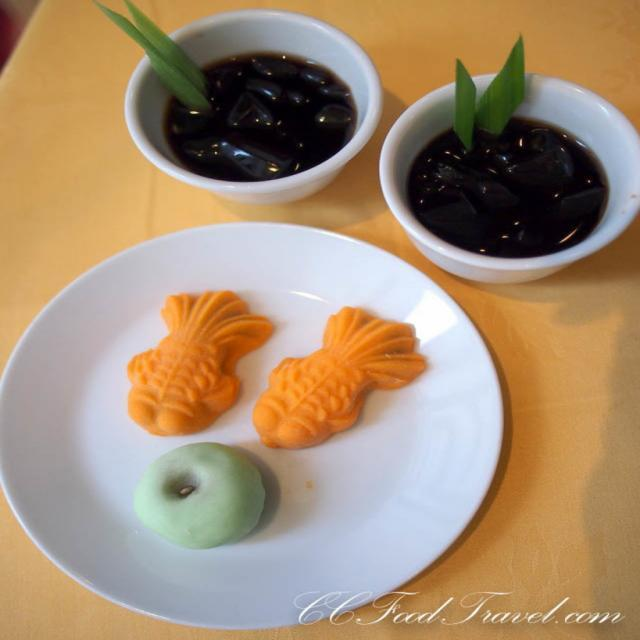Apple pie: (130, 442, 262, 550)
